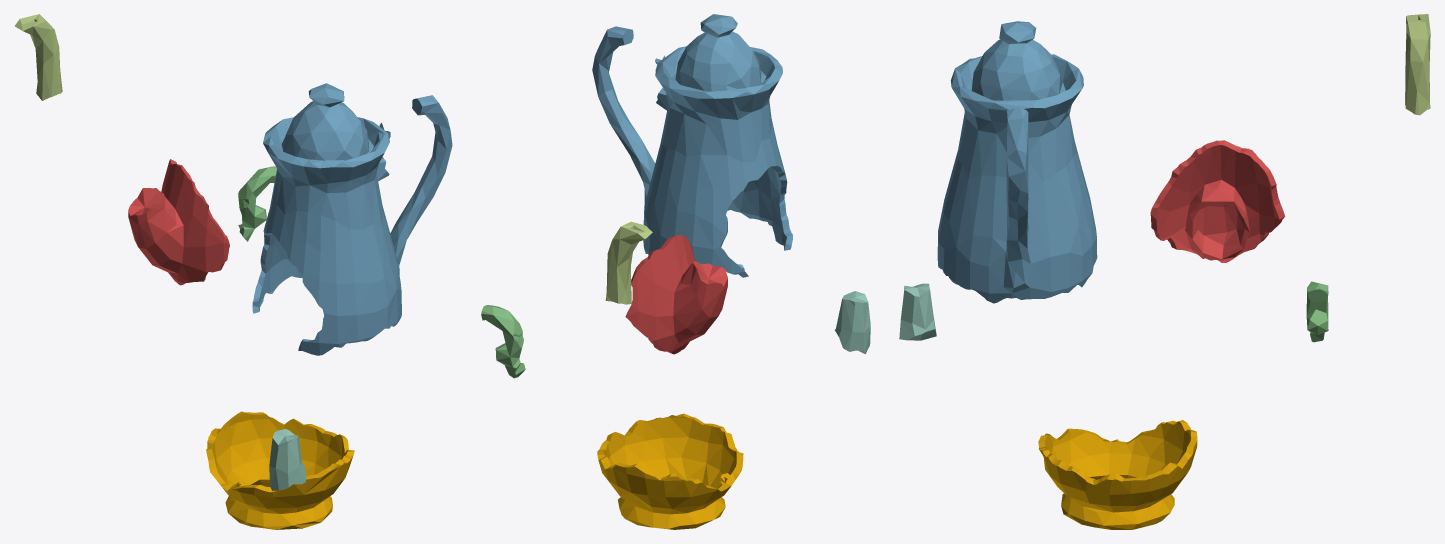
The model's file is mode_13_6pcs_transformed.glb.
3 views of the same model, side by side, from view 1: azimuth 30°, elevation 25°; view 2: azimuth 150°, elevation 25°; view 3: azimuth 270°, elevation 25° (orthographic). The views are drawn at different scales.
Parts seen in each view (by area): view 1: piece_2.obj, piece_0.obj, piece_1.obj, piece_5.obj, piece_4.obj, piece_3.obj; view 2: piece_2.obj, piece_0.obj, piece_1.obj, piece_5.obj, piece_4.obj, piece_3.obj; view 3: piece_2.obj, piece_0.obj, piece_1.obj, piece_5.obj, piece_4.obj, piece_3.obj.
Boxes of the visible parts, x1,y1,x2,y2 form: piece_2.obj: (252,83,452,355); piece_0.obj: (206,411,354,529); piece_1.obj: (128,159,229,285); piece_5.obj: (15,14,62,100); piece_4.obj: (269,429,306,490); piece_3.obj: (238,166,276,241); piece_2.obj: (592,14,792,277); piece_0.obj: (597,413,743,529); piece_1.obj: (625,235,727,354); piece_5.obj: (605,221,652,304); piece_4.obj: (834,291,870,354); piece_3.obj: (481,305,525,378); piece_2.obj: (937,21,1097,303); piece_0.obj: (1038,420,1197,529); piece_1.obj: (1150,140,1285,262); piece_5.obj: (1405,14,1430,115); piece_4.obj: (899,283,936,340); piece_3.obj: (1306,281,1328,342).
Size of the model in its own units: 0.8875 by 1.6 by 1.59.
